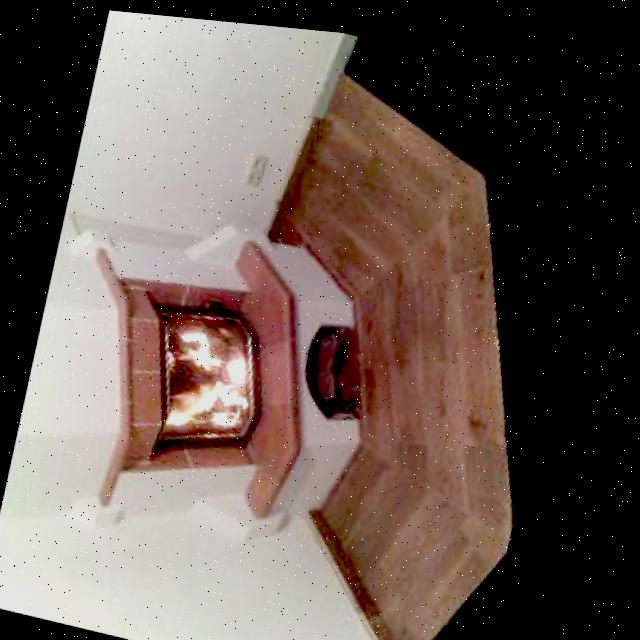Fire: (153, 324, 258, 438)
